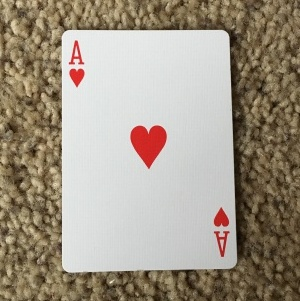card: (60, 28, 239, 273)
